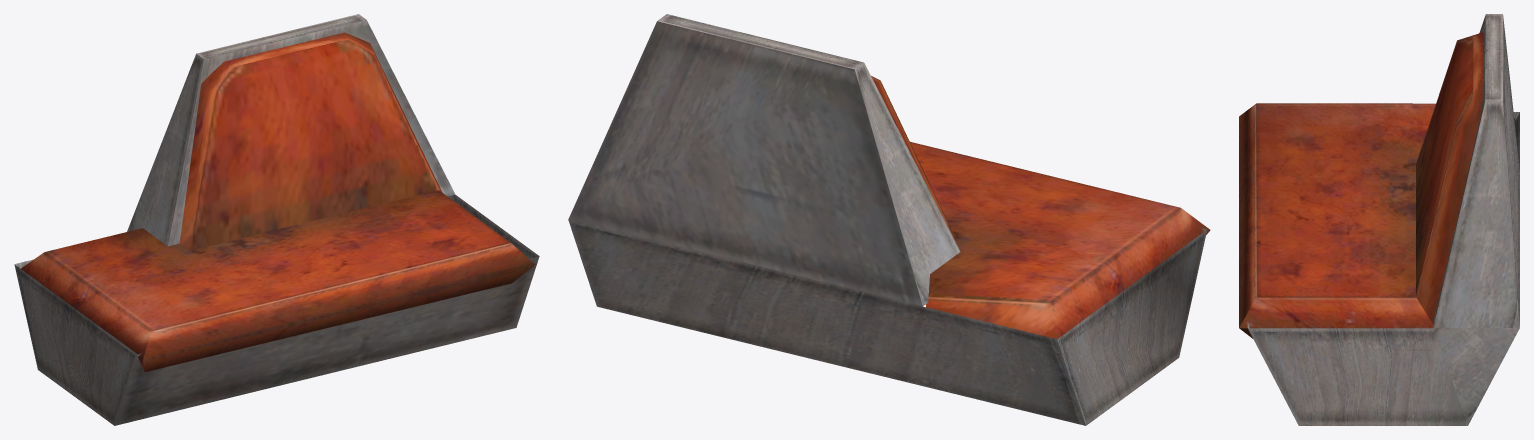
File: frn_all_chep_love_seat_s01_l1.fbx
3 views of the same model, side by side, from view 1: azimuth 30°, elevation 25°; view 2: azimuth 150°, elevation 25°; view 3: azimuth 270°, elevation 25° (orthographic). The views are drawn at different scales.
Parts seen in each view (by area): view 1: mesh_node; view 2: mesh_node; view 3: mesh_node.
Boxes of the visible parts, <box> form: mesh_node: <box>14,14,539,425</box>; mesh_node: <box>568,14,1210,425</box>; mesh_node: <box>1239,14,1519,425</box>.
Size of the model in its own units: 1.6 by 1 by 0.8802.
